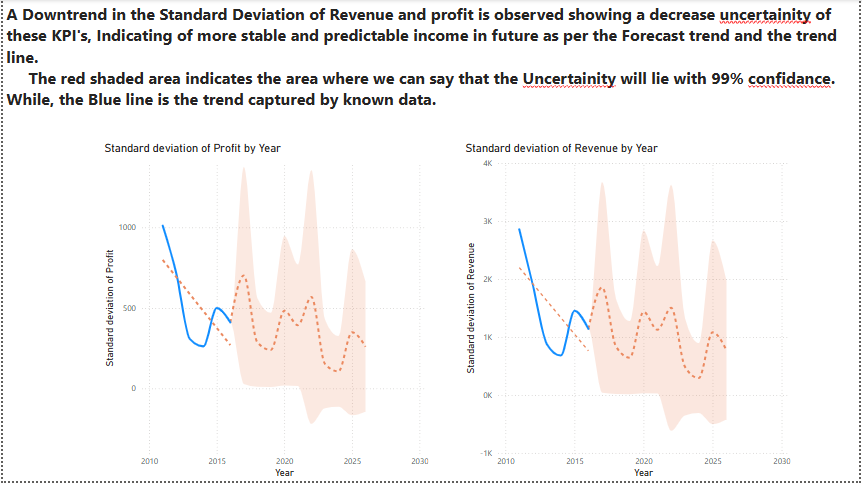

Layout of this report page (visuals, bound fields, positions):
{"tool":"powerbi","page":{"name":"Page 2","canvas":[1280,720],"ordinal":1},"visuals":[{"type":"lineChart","fields":{"Category":["sales_data.Year"],"Y":["CountNonNull(sales_data.Profit)"]},"box":[146.1,211.7,493.9,509],"z":0},{"type":"lineChart","fields":{"Category":["sales_data.Year"],"Y":["CountNonNull(sales_data.Revenue)"]},"box":[685.4,211.7,495.5,509],"z":1},{"type":"textbox","box":[0,0,1280.2,188.2],"z":2}]}

Visuals, with their boxes in screenshot pixels (x1, y1, x2, y2), scaled from the page's 1280x720 canvas onto the 862x484 screenshot:
lineChart - sales_data.Year x CountNonNull(sales_data.Profit): (x1=98, y1=142, x2=431, y2=483)
lineChart - sales_data.Year x CountNonNull(sales_data.Revenue): (x1=462, y1=142, x2=795, y2=483)
textbox: (x1=0, y1=0, x2=861, y2=127)
